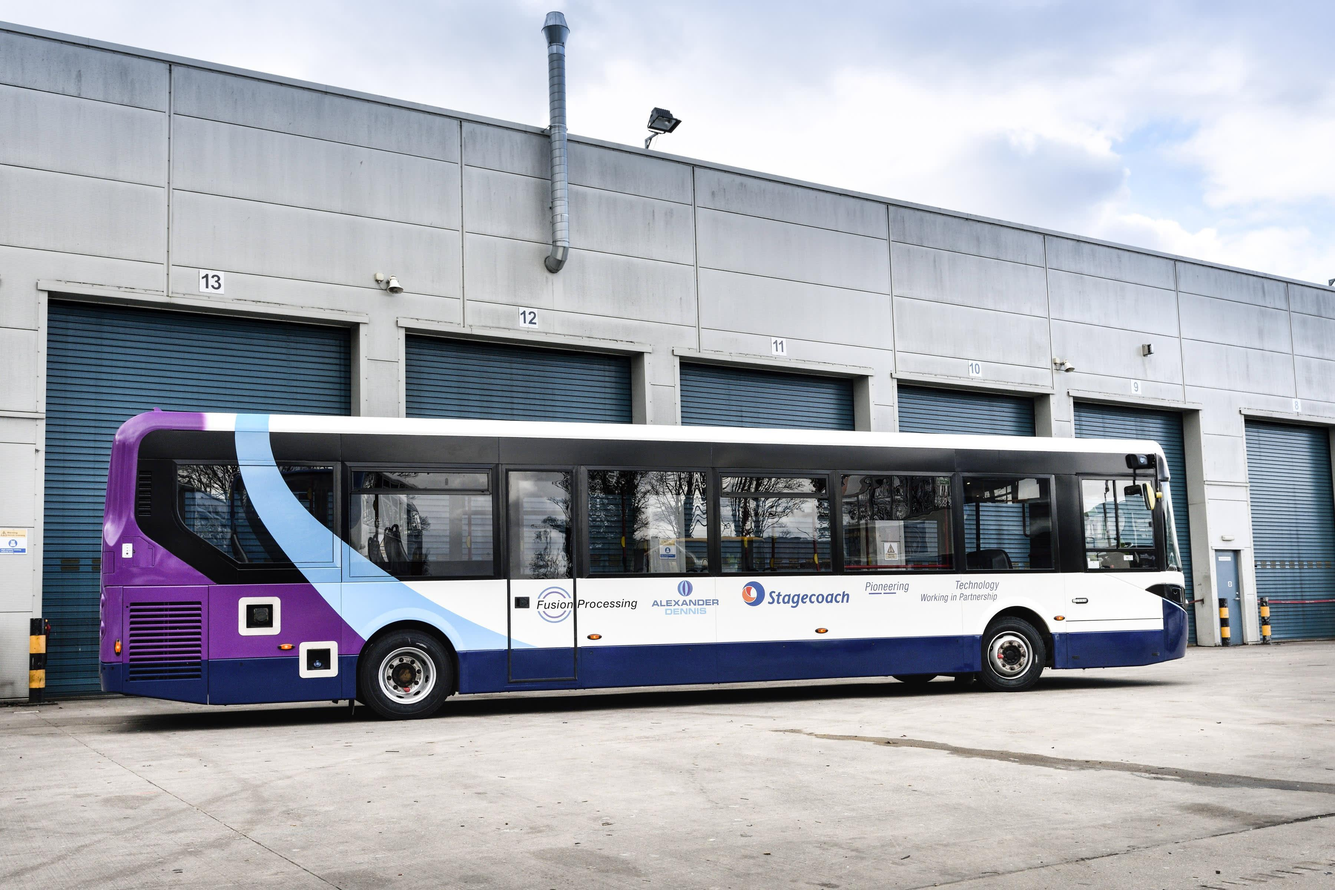Bus: (99, 412, 1194, 723)
